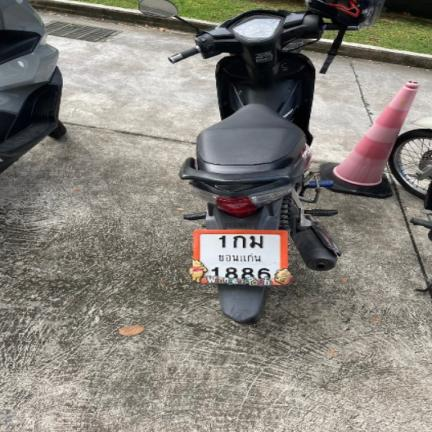1: (216, 235, 227, 248), (209, 266, 220, 278)
6: (257, 266, 272, 279)
8: (241, 266, 255, 279), (223, 266, 238, 278)
A01: (230, 235, 248, 248)
A33: (249, 235, 264, 249)
KKN: (215, 252, 263, 263)
